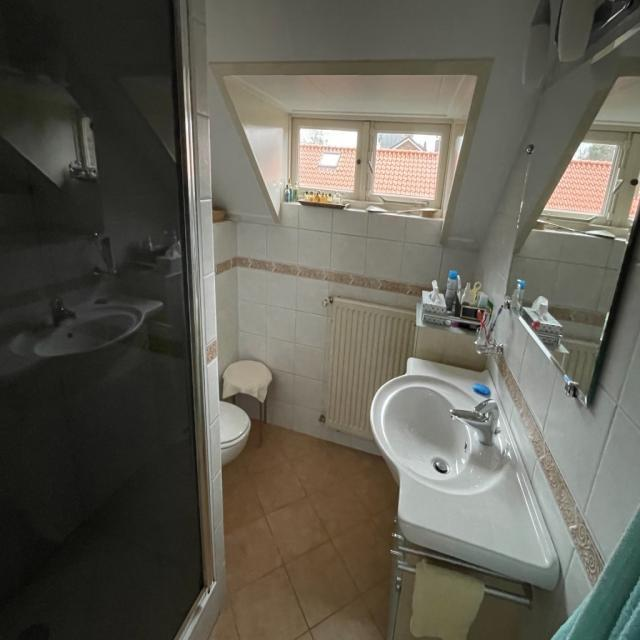douche: (0, 0, 228, 640)
toilet: (213, 399, 251, 471)
wastafel: (371, 370, 515, 498)
